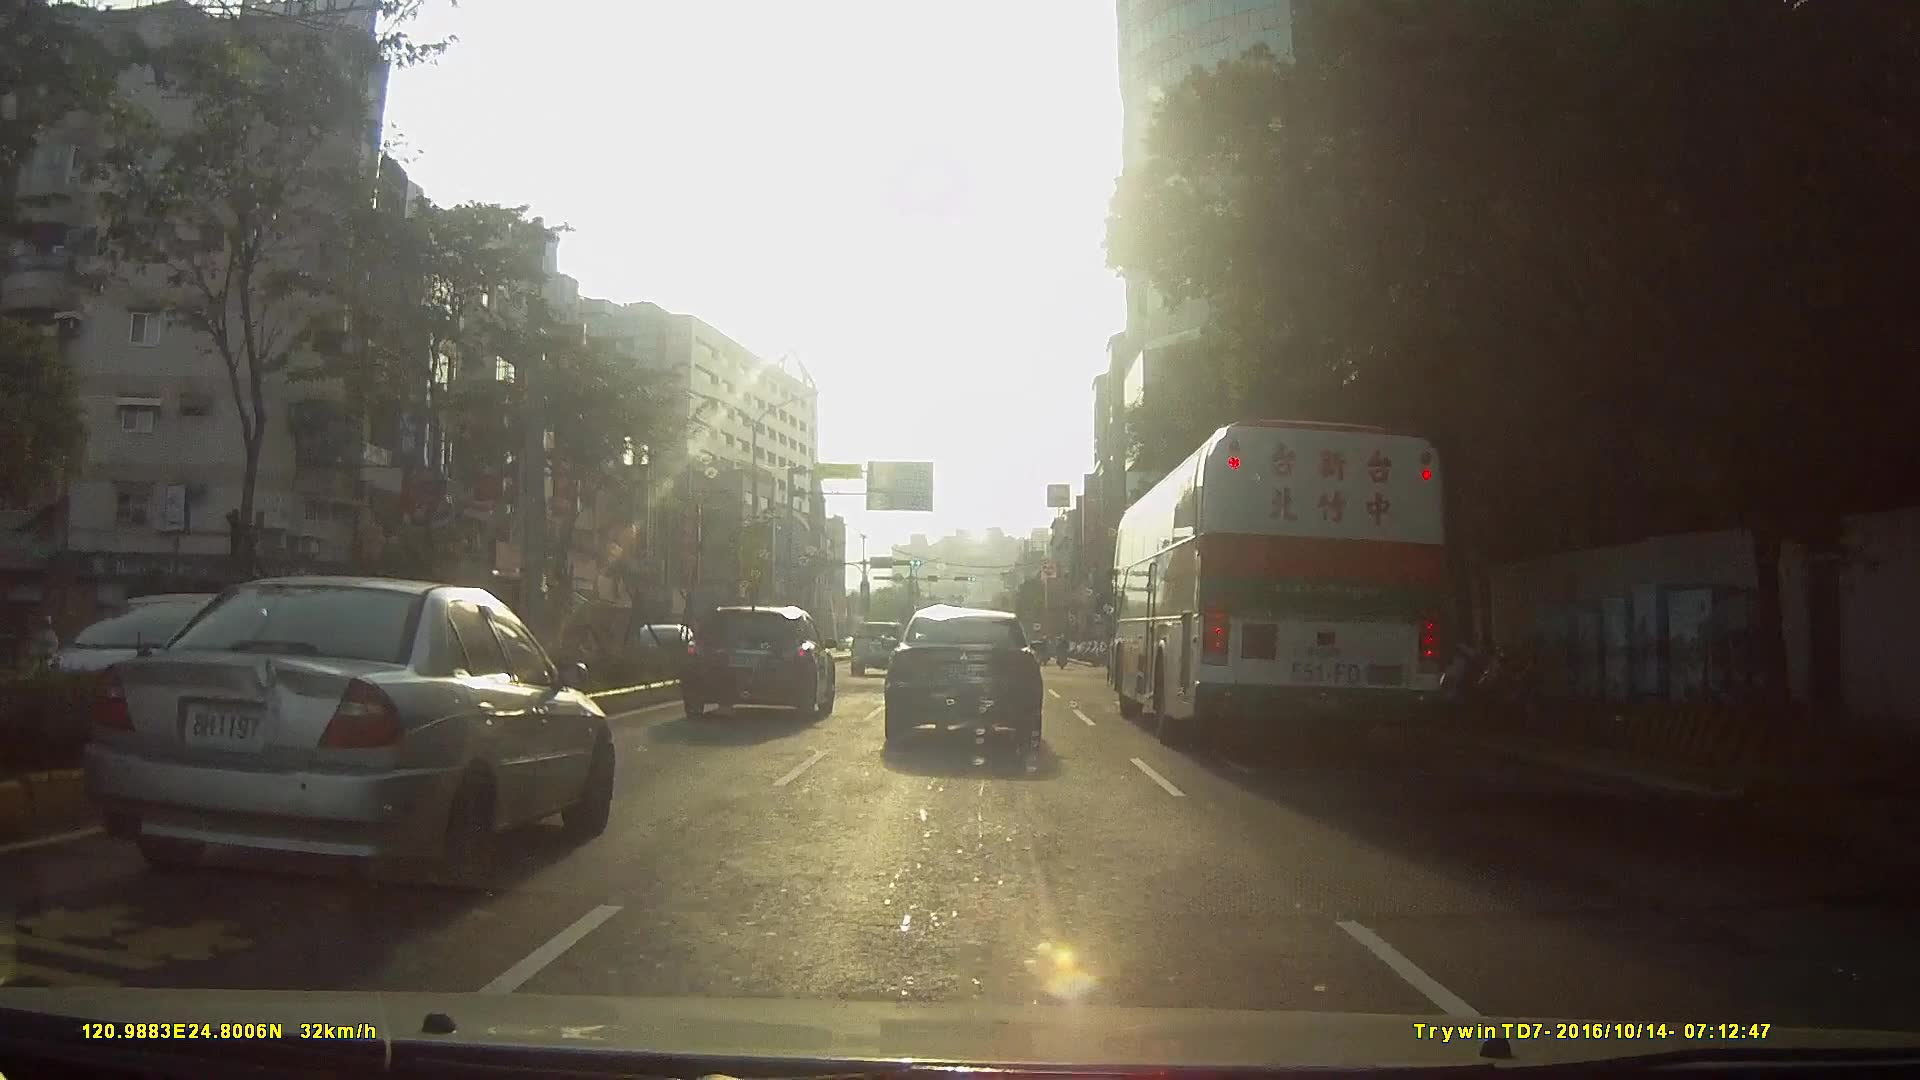vehicle: (76, 574, 617, 911), (1101, 393, 1501, 758), (41, 595, 274, 737), (882, 609, 1047, 756), (680, 603, 837, 721), (851, 622, 906, 680)
